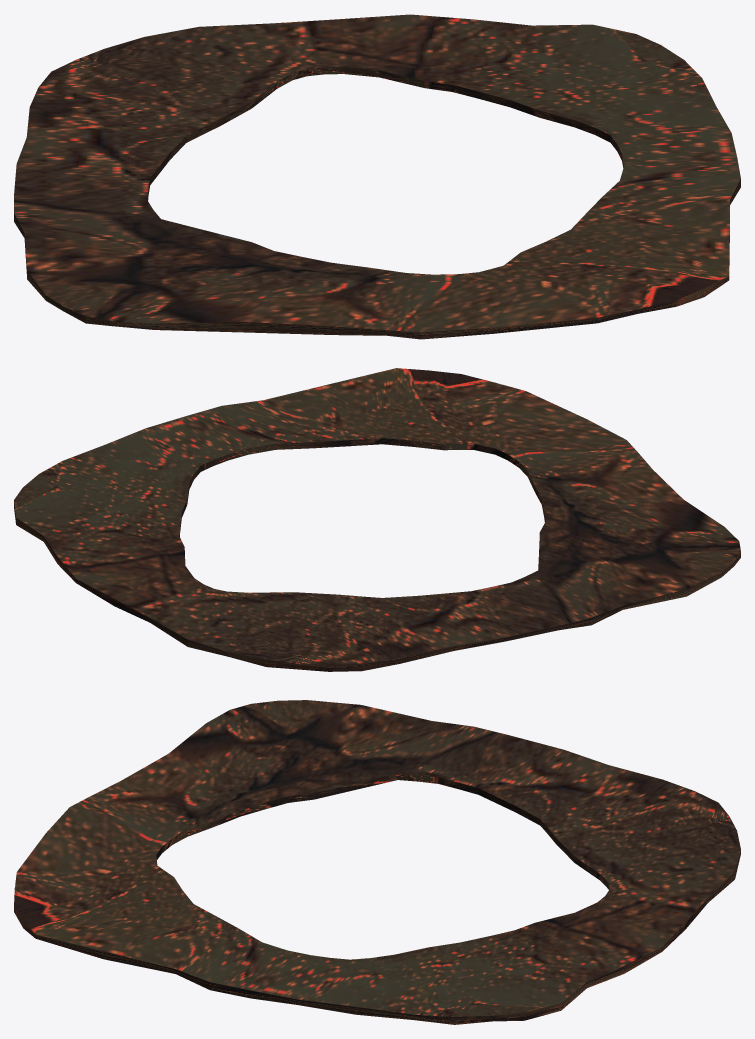
Rendered from GaeaCheckpoint.fbx.
The picture shows the model from 3 angles, top to bottom: view 1: azimuth 30°, elevation 25°; view 2: azimuth 150°, elevation 25°; view 3: azimuth 270°, elevation 25°; orthographic projection. The views are drawn at different scales.
Parts seen in each view (by area): view 1: First checkpoint; view 2: First checkpoint; view 3: First checkpoint.
Boxes of the visible parts, <box> form: First checkpoint: <box>14,14,740,339</box>; First checkpoint: <box>14,368,740,671</box>; First checkpoint: <box>14,700,740,1024</box>.
Size of the model in its own units: 7270 by 101 by 7046.
Materials: 1 (1 with a texture image).
